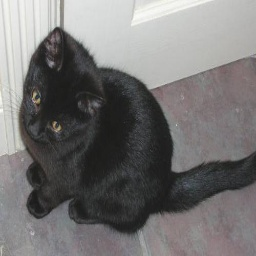cat: (16, 35, 256, 226)
